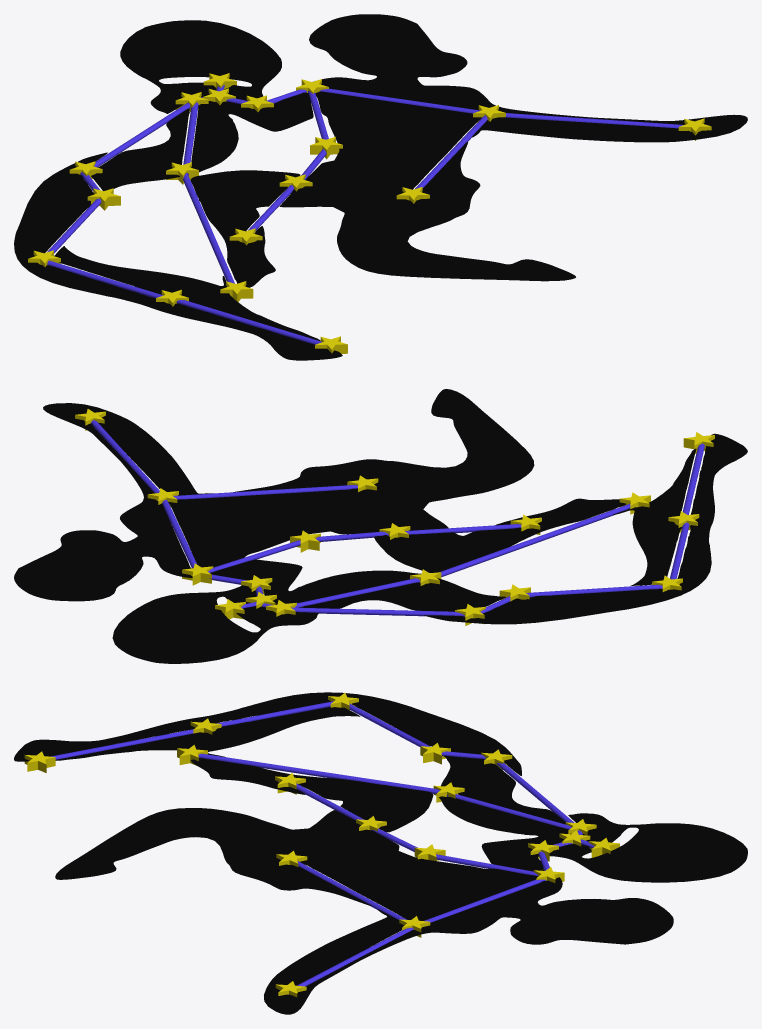
The model's file is Mizugame-za.glb.
The picture shows the model from 3 angles, top to bottom: view 1: azimuth 30°, elevation 25°; view 2: azimuth 150°, elevation 25°; view 3: azimuth 270°, elevation 25°; orthographic projection. The views are drawn at different scales.
Visible parts, largest first — view 1: トレース, 円柱.002, 円柱.013, 円柱.014, 円柱.011, 円柱, 円柱.010, 円柱.009; view 2: トレース, 円柱.002, 円柱, 円柱.009, 円柱.007, 円柱.017, 円柱.014, 円柱.015, 円柱.016, 円柱.013, 円柱.011; view 3: トレース, 円柱.002, 円柱.013, 円柱.014, 円柱.011, 円柱.009, 円柱.010, 円柱.017, 円柱, 円柱.016, 円柱.007.
Boxes of the visible parts, box(x1,y1,x2,y2) form: トレース: box(14, 14, 747, 360); 円柱.002: box(183, 173, 234, 283); 円柱.013: box(176, 300, 322, 344); 円柱.014: box(505, 113, 683, 128); 円柱.011: box(319, 88, 480, 113); 円柱: box(94, 103, 190, 167); 円柱.010: box(47, 260, 163, 298); 円柱.009: box(415, 115, 487, 188); トレース: box(14, 389, 747, 663); 円柱.002: box(439, 503, 630, 577); 円柱: box(291, 607, 464, 616); 円柱.009: box(173, 485, 357, 499); 円柱.007: box(526, 584, 662, 597); 円柱.017: box(295, 578, 420, 607); 円柱.014: box(91, 420, 159, 493); 円柱.015: box(405, 524, 521, 534); 円柱.016: box(208, 540, 300, 572); 円柱.013: box(682, 443, 704, 514); 円柱.011: box(162, 500, 196, 568); トレース: box(14, 692, 747, 1014); 円柱.002: box(198, 753, 439, 794); 円柱.013: box(51, 729, 193, 759); 円柱.014: box(289, 927, 413, 994); 円柱.011: box(424, 879, 545, 922); 円柱.009: box(297, 861, 407, 919); 円柱.010: box(216, 701, 333, 726); 円柱.017: box(446, 794, 571, 829); 円柱: box(496, 762, 574, 822); 円柱.016: box(436, 854, 538, 876); 円柱.007: box(349, 703, 430, 746).
Size of the model in its own units: 46.16 by 0.5973 by 44.44.
